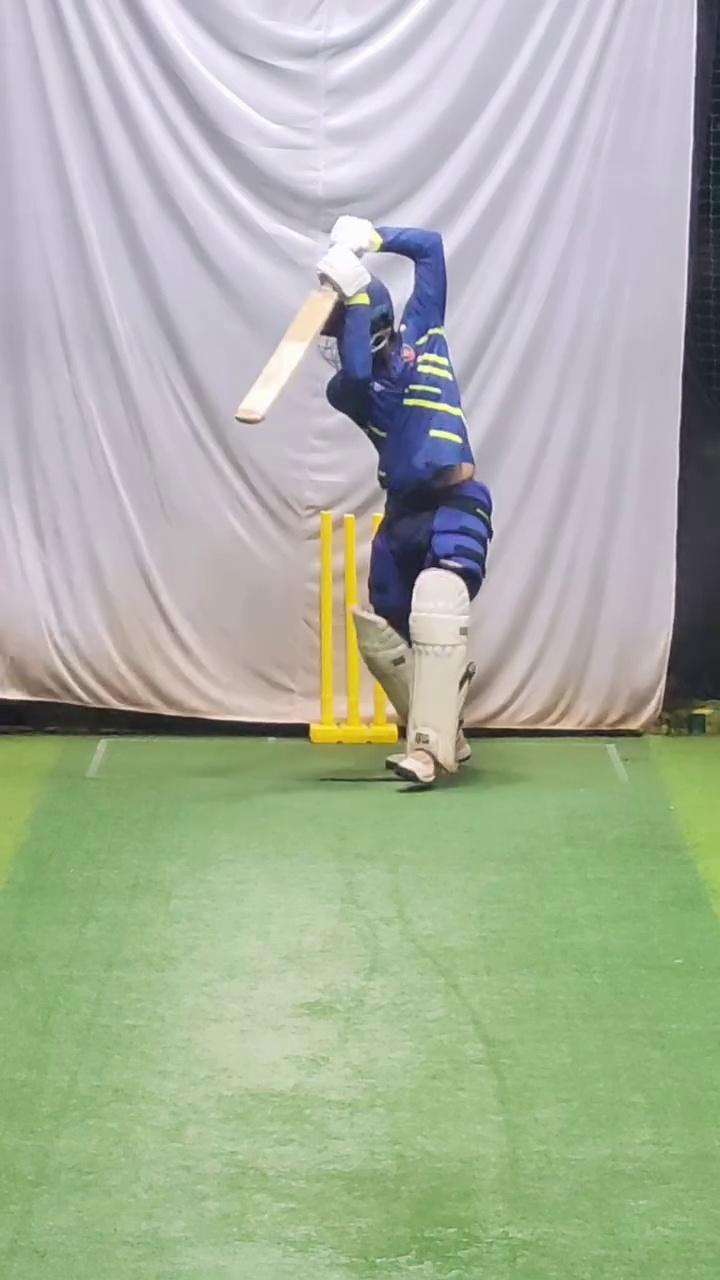bat: (228, 276, 341, 438)
